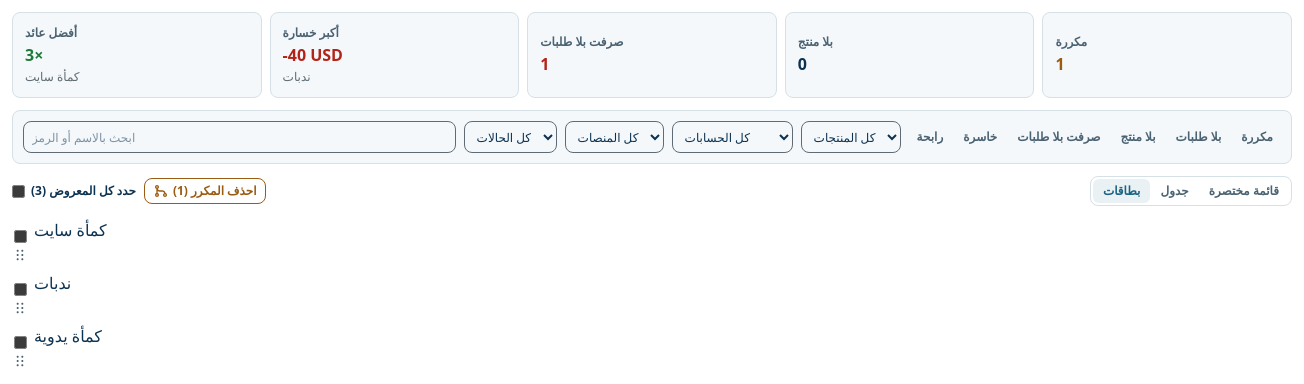
it: the campaigns board › filters by name and by status
Type "كمأة" into the field named "ابحث في الحملات".
click(239, 137); type("كمأة")  # box left=23, top=121, right=456, bottom=153
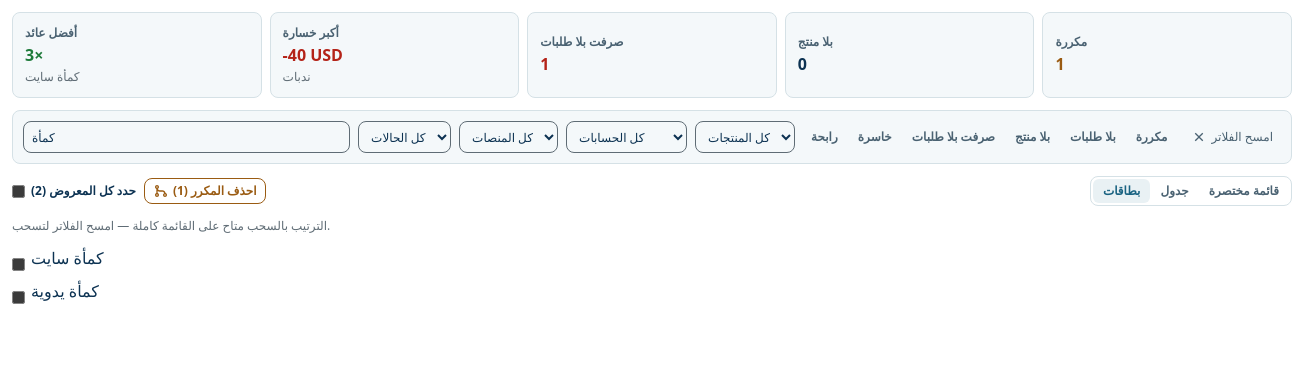
Check: the number of elements with test id "card" is 2, box left=31, top=247, right=104, bottom=269; left=31, top=280, right=99, bottom=302
Select "متوقفة" in the dropdown named "الحالة" at (405, 137), box left=358, top=121, right=451, bottom=153
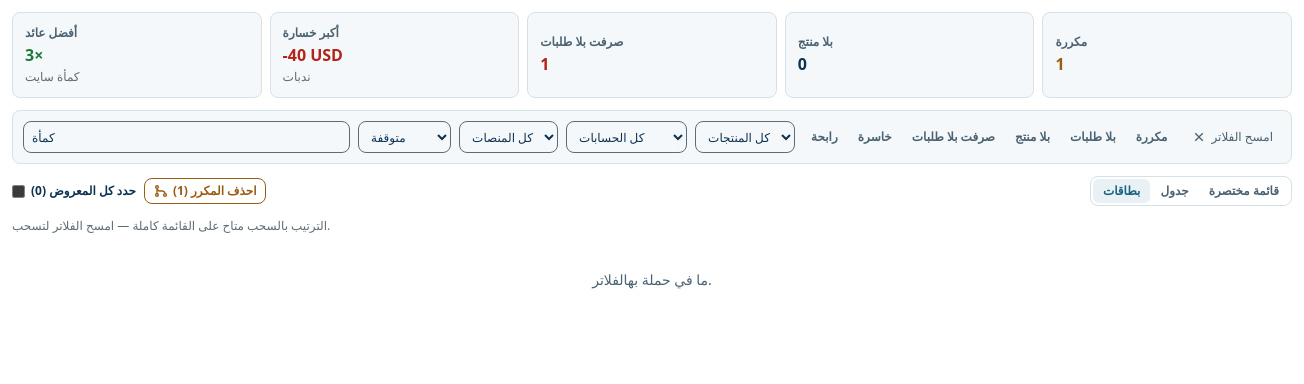
Check: no elements with test id "card" are shown
